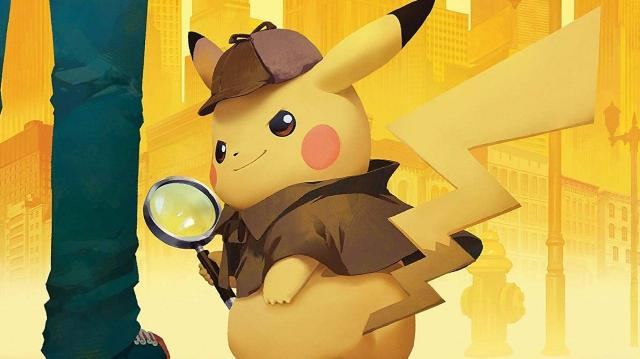pickachu: (185, 3, 603, 359)
